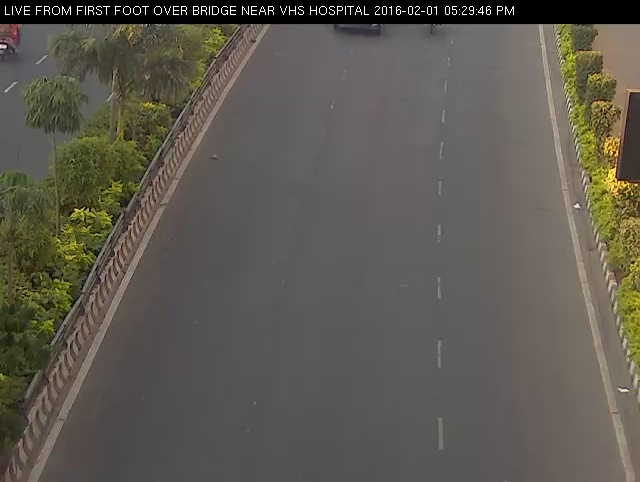Car: (324, 18, 395, 40)
Person: (421, 11, 463, 41)
